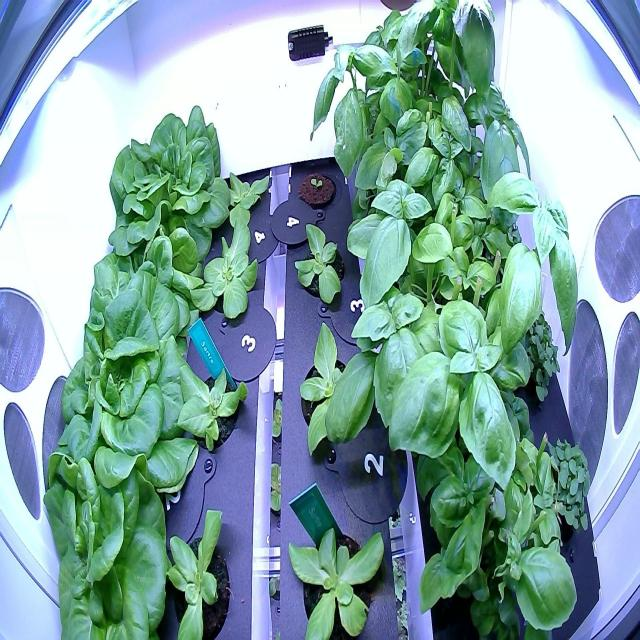Ready: (52, 271, 202, 493), (103, 94, 232, 263)
germination: (293, 163, 341, 215)
young: (38, 448, 175, 640), (79, 198, 208, 352), (282, 498, 392, 639), (286, 316, 380, 462), (156, 480, 235, 640), (166, 342, 254, 458), (196, 216, 265, 322), (291, 214, 351, 324), (212, 154, 277, 240)
